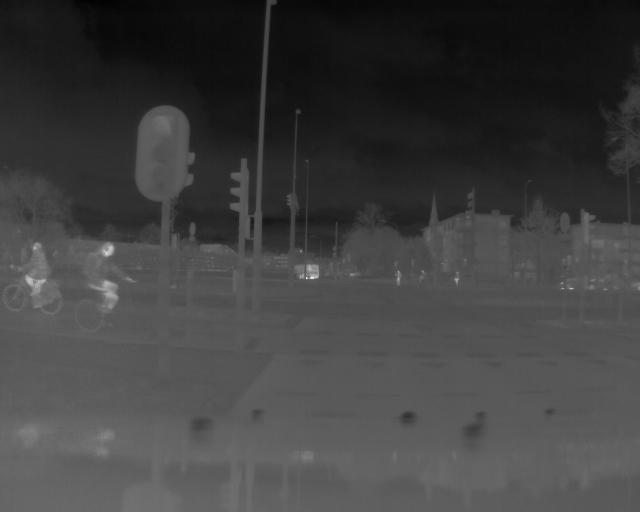person: (82, 238, 138, 325), (15, 236, 55, 311)
